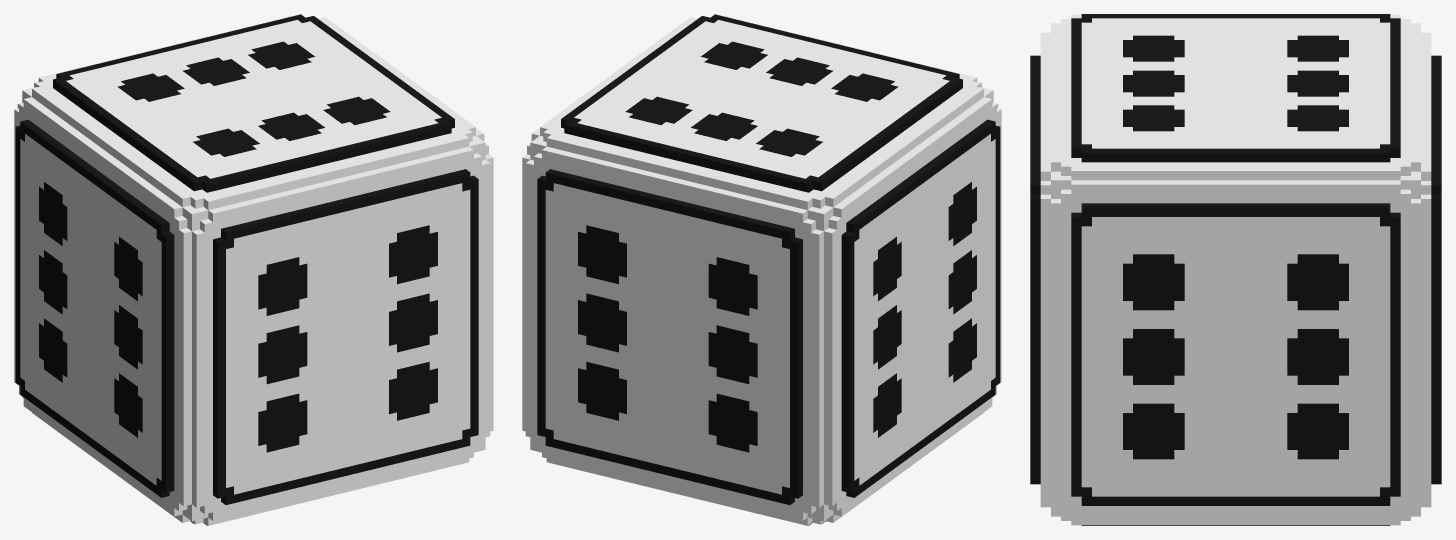
File: Dicemob6.obj
The picture shows the model from 3 angles, left to right: view 1: azimuth 30°, elevation 25°; view 2: azimuth 150°, elevation 25°; view 3: azimuth 270°, elevation 25°; orthographic projection. The views are drawn at different scales.
Size of the model in its own units: 4 by 4 by 4.
